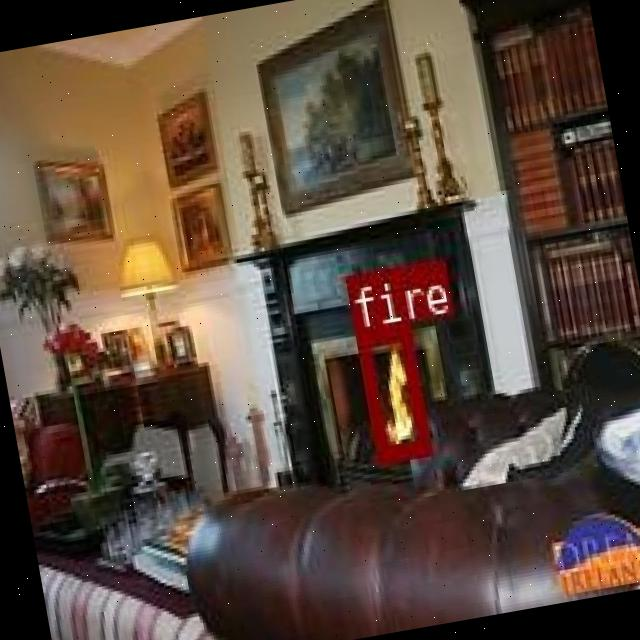fire: (352, 322, 430, 461)
